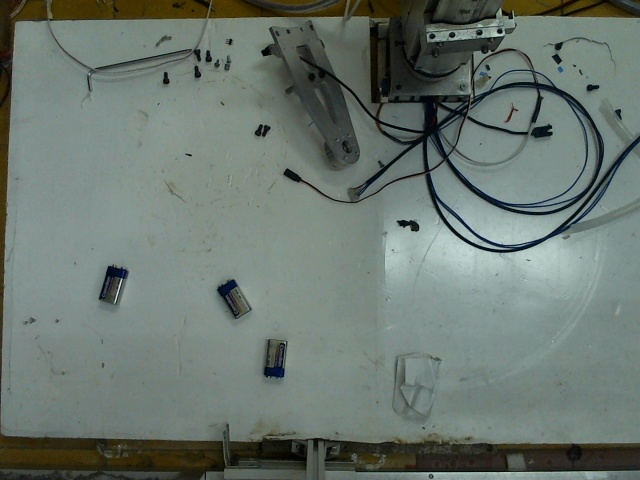battery: (215, 275, 253, 322), (254, 337, 292, 377), (98, 262, 128, 305)
